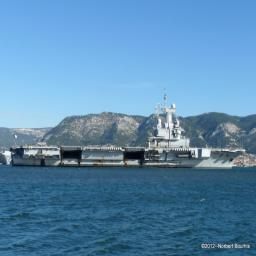Portanaves: (10, 87, 249, 171)
